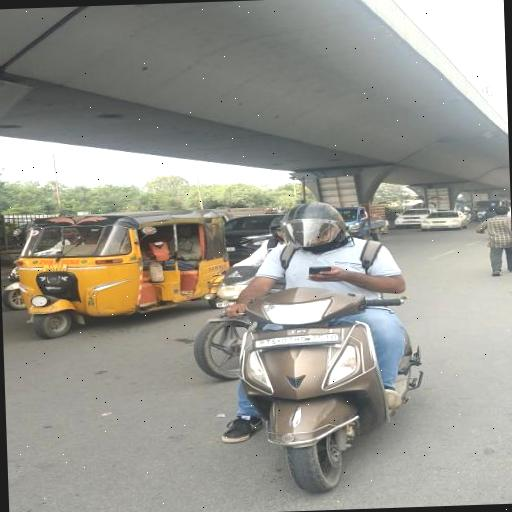helmet: (211, 197, 414, 444)
